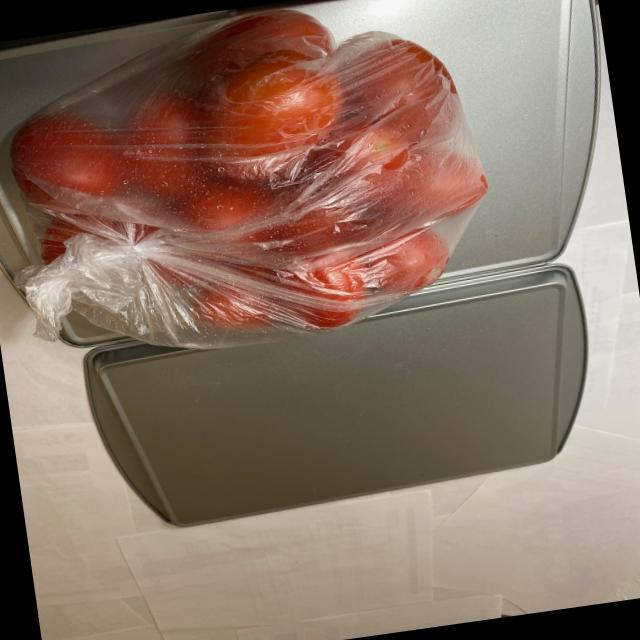tomato: (9, 0, 503, 365)
